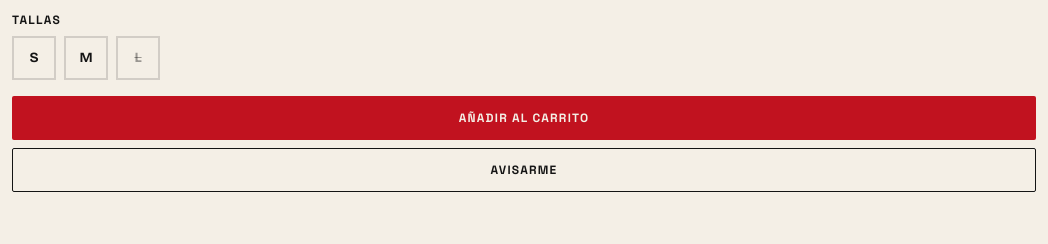
Test: AddToCartForm › prompts for a size before adding anything
This screenshot has width=1048, height=244.
Click the button "Añadir al carrito" at x=524, y=118, box 12,96 -> 1036,140
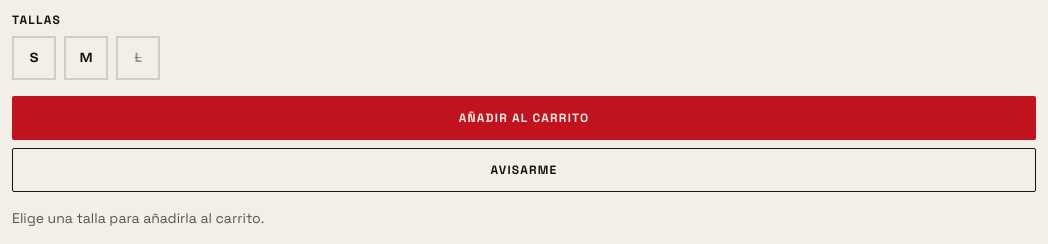
Expected: the text "Elige una talla para añadirla al carrito." is shown, 12,209 -> 264,227
